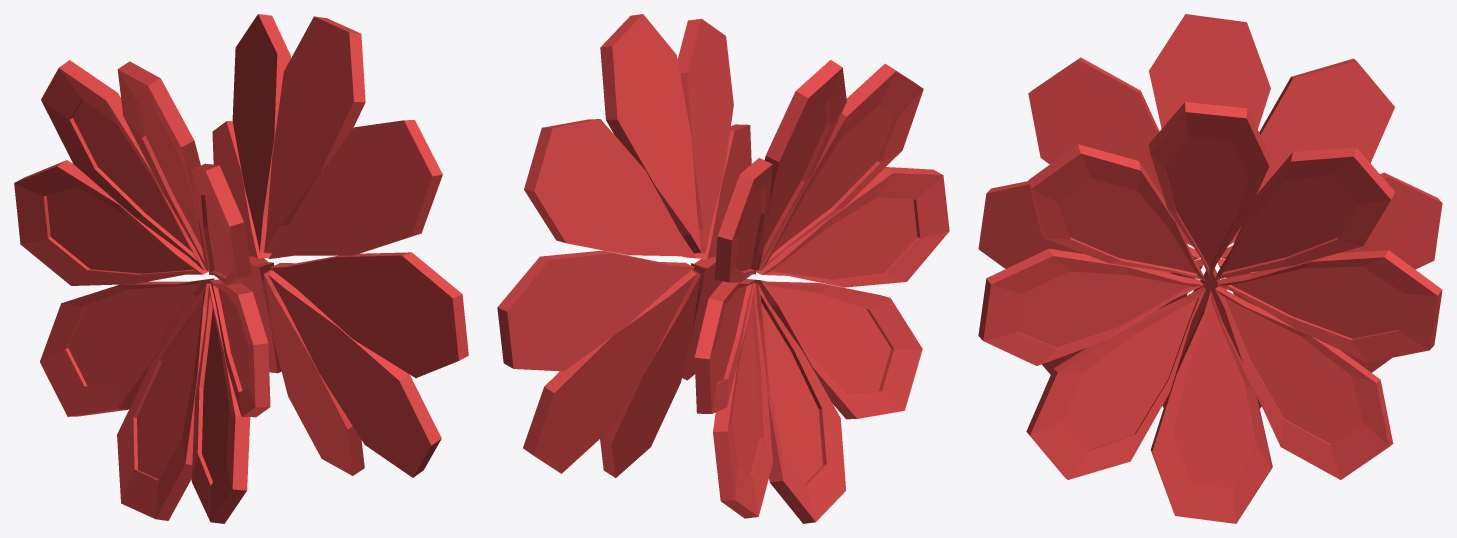
The model's file is flower-3.fbx.
3 renders of one model, left to right at view 1: azimuth 30°, elevation 25°; view 2: azimuth 150°, elevation 25°; view 3: azimuth 270°, elevation 25°, orthographic. The views are drawn at different scales.
Parts seen in each view (by area): view 1: 실린더.003; view 2: 실린더.003; view 3: 실린더.003.
Boxes of the visible parts, box(x1,y1,x2,y2) form: 실린더.003: box(14, 14, 468, 523); 실린더.003: box(497, 14, 949, 523); 실린더.003: box(978, 14, 1442, 523).
Bounding box in the file's own units: 494 × 987 × 988.
